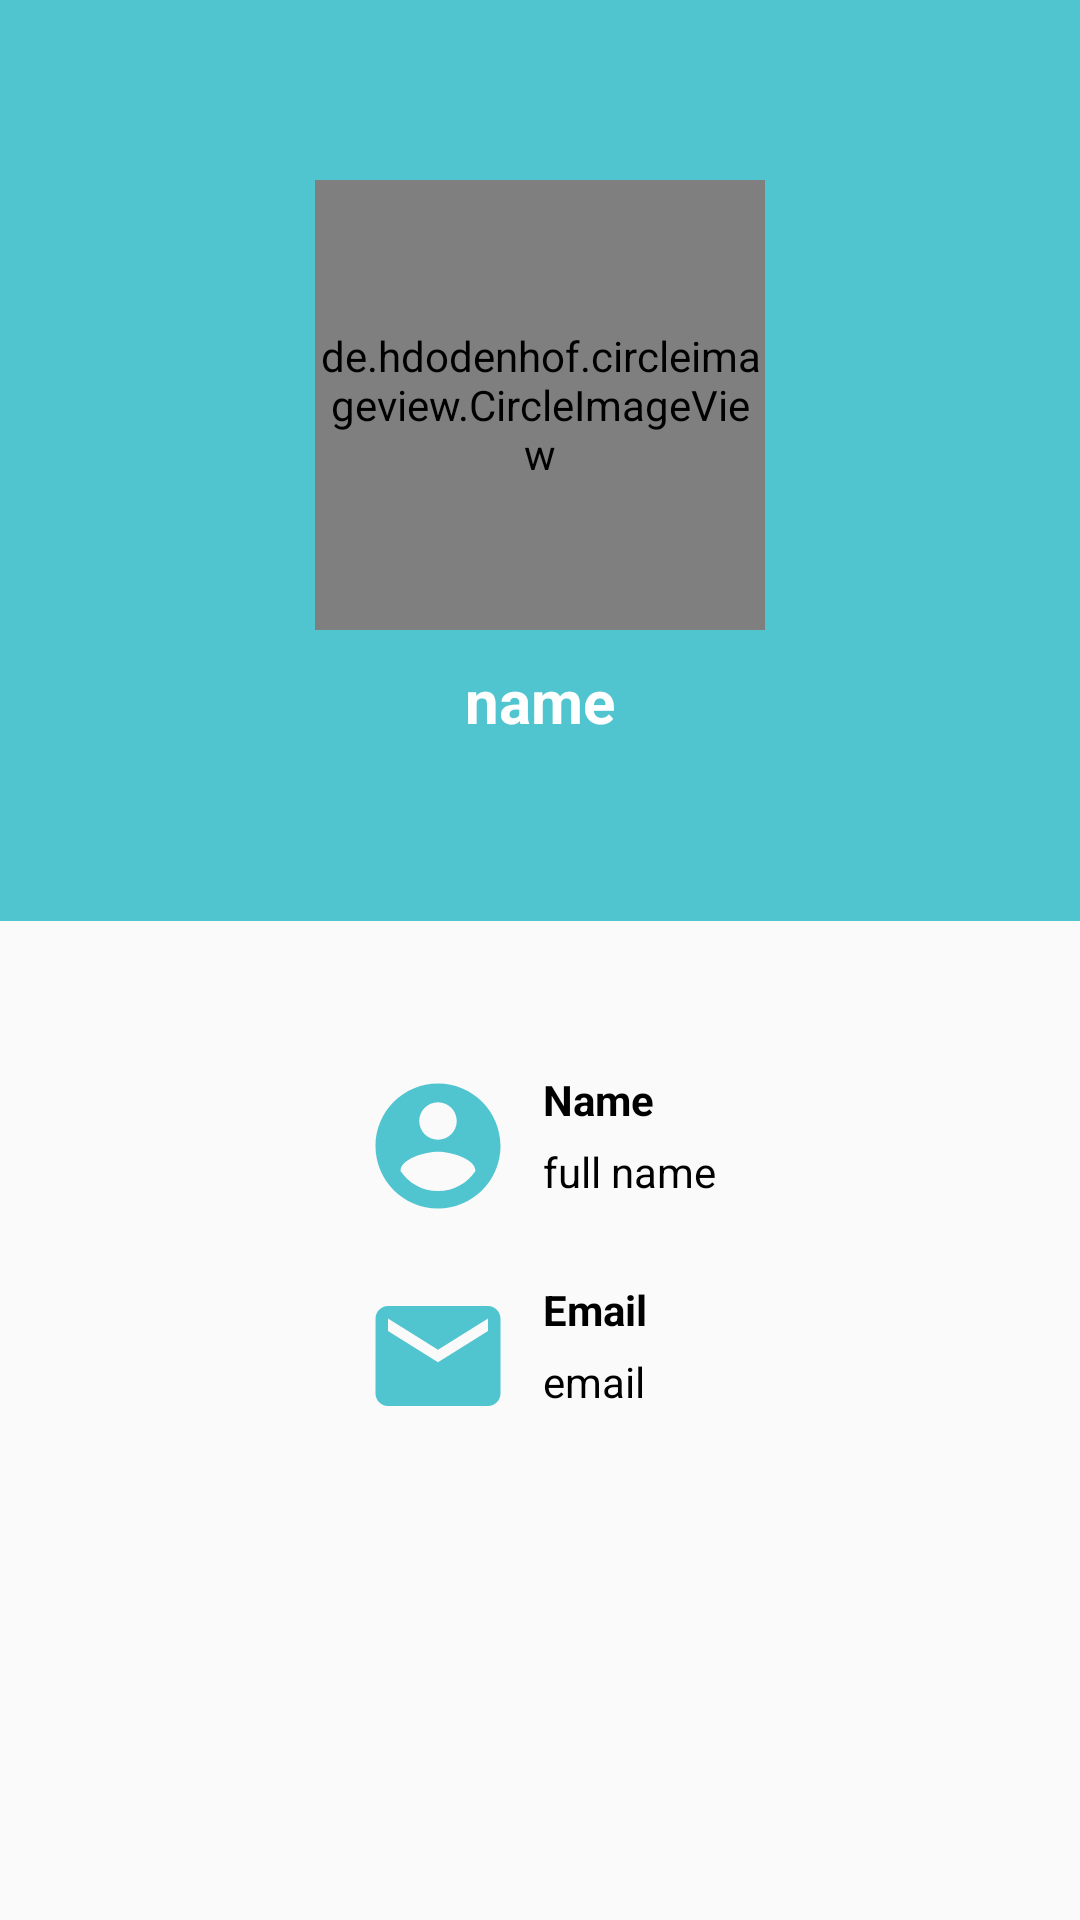

Screen size 1080 × 1920. Icon name, then its box in pixels as (left=x1, top=y1, right=x2, bottom=y2):
account circle: (left=375, top=1083, right=501, bottom=1209)
